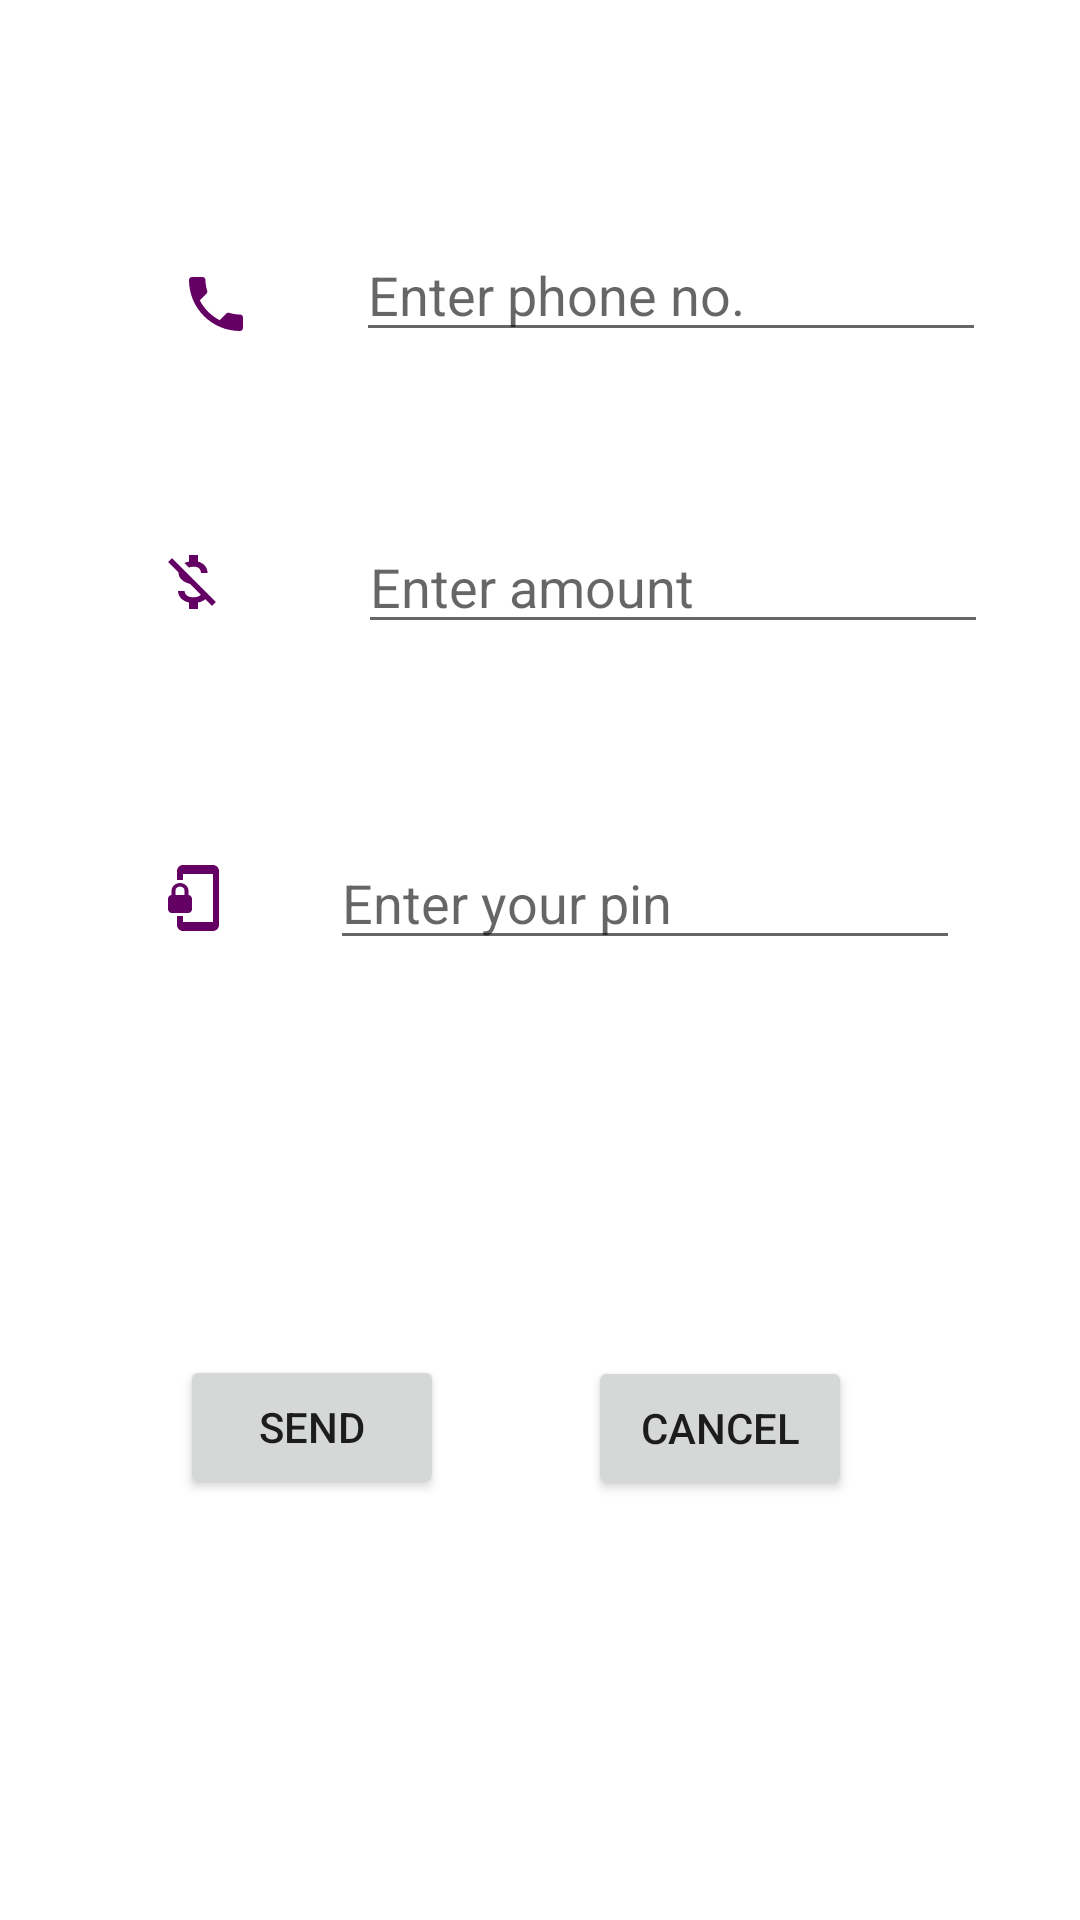

Screen size 1080 × 1920. Icon name, then its center in pixels as point (x, y):
local phone: point (216, 304)
money off: point (192, 582)
phonelink lock: point (193, 898)
